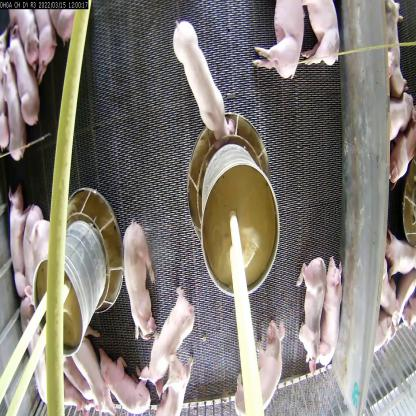Pig: (169, 7, 239, 154), (144, 287, 196, 394), (237, 318, 284, 415), (252, 0, 304, 85), (124, 215, 155, 352), (298, 262, 335, 370), (104, 345, 156, 409), (326, 260, 354, 376), (302, 0, 342, 75), (32, 218, 65, 295), (9, 198, 29, 324), (12, 21, 34, 125), (23, 203, 49, 289), (74, 339, 108, 403), (31, 1, 56, 79), (2, 50, 19, 147), (160, 358, 188, 414)
